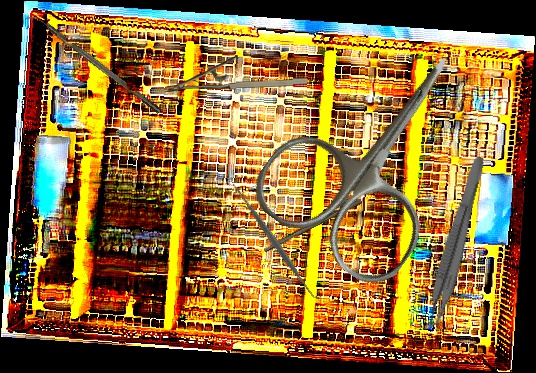Chopper: (24, 8, 162, 121)
Iris Scissors: (242, 10, 516, 296)
Needle Holder: (164, 54, 307, 92)
Scalpel Handle: (262, 195, 363, 255)
Spatula Surgical: (226, 176, 324, 308)
Tissue Forceps: (420, 153, 487, 333)
